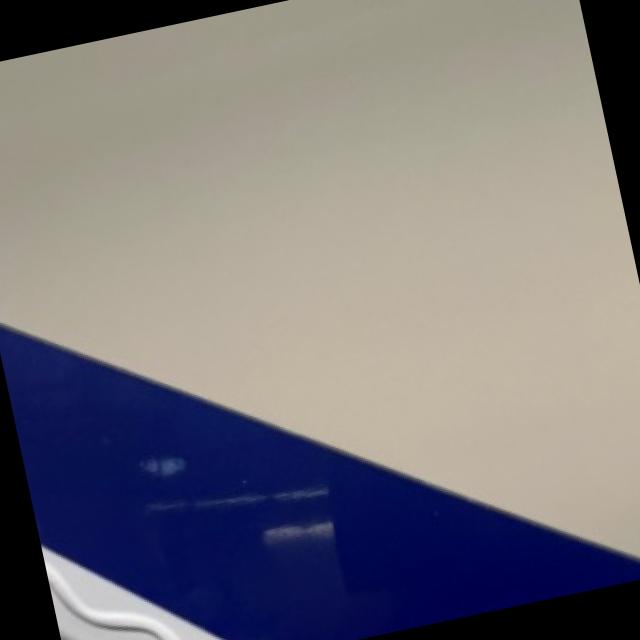healthy: (0, 325, 640, 640)
